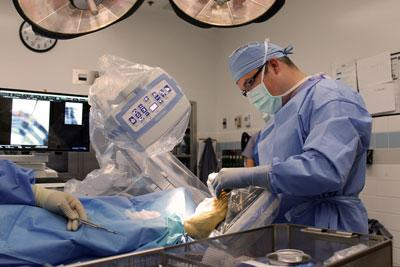Light: (16, 3, 284, 40)
